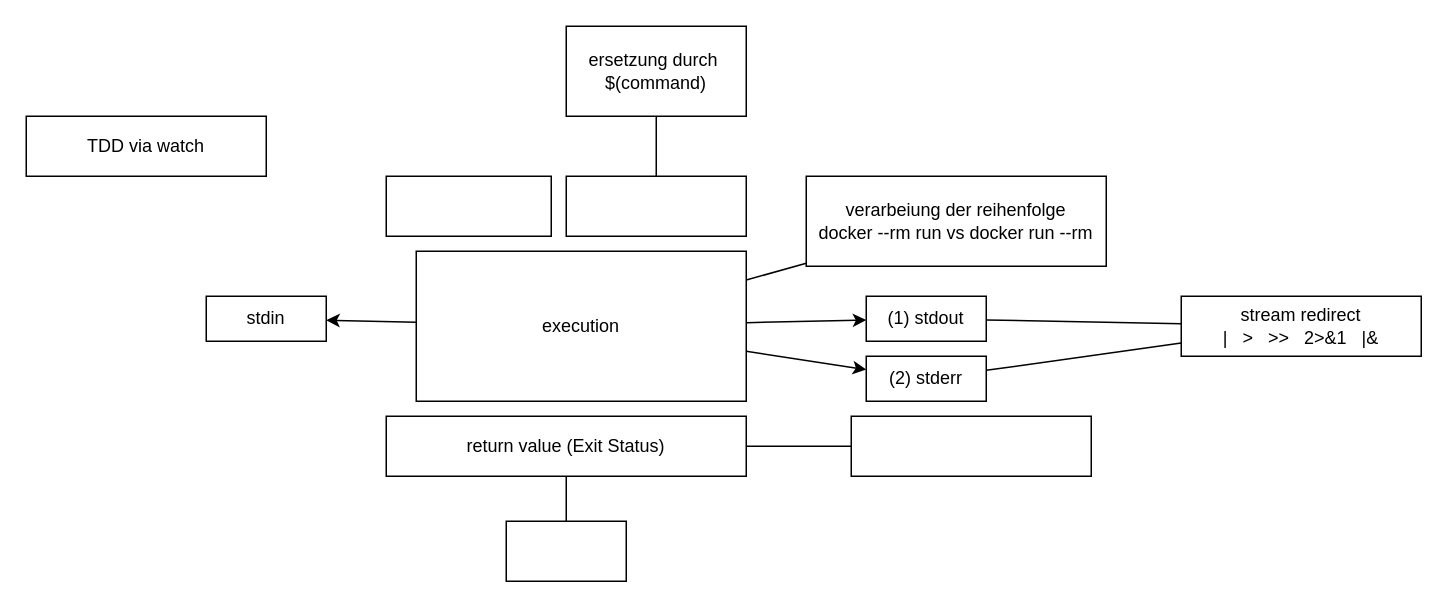
Some shapes in this 1448 by 608 pixel diagram are drawn without their labels. Here are the shapes that lost their labels. From the top down, the centre of each, then its label:
(x=468, y=205): command
(x=655, y=205): arg 1 ... arg n
(x=970, y=445): || OR verknüpft && AND verknüpft
(x=565, y=550): echo $?
